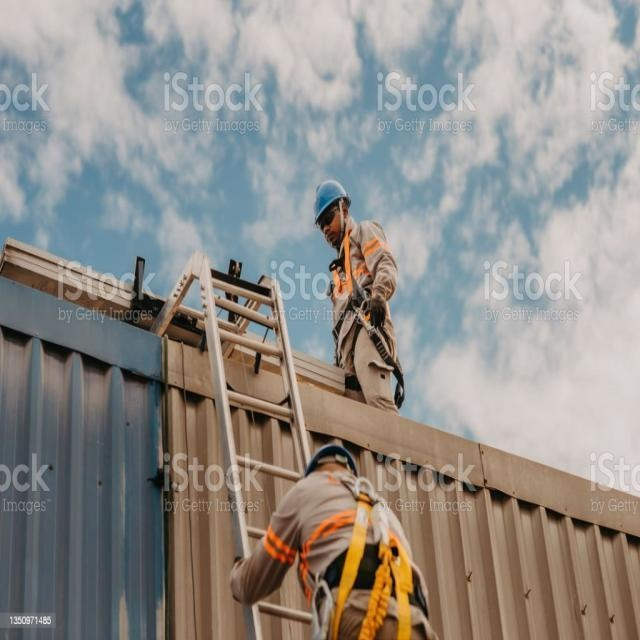Arnes_seguridad: (319, 465, 416, 640)
